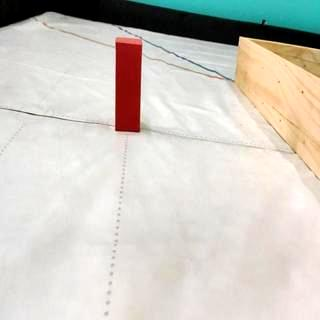redbox: (114, 36, 142, 132)
